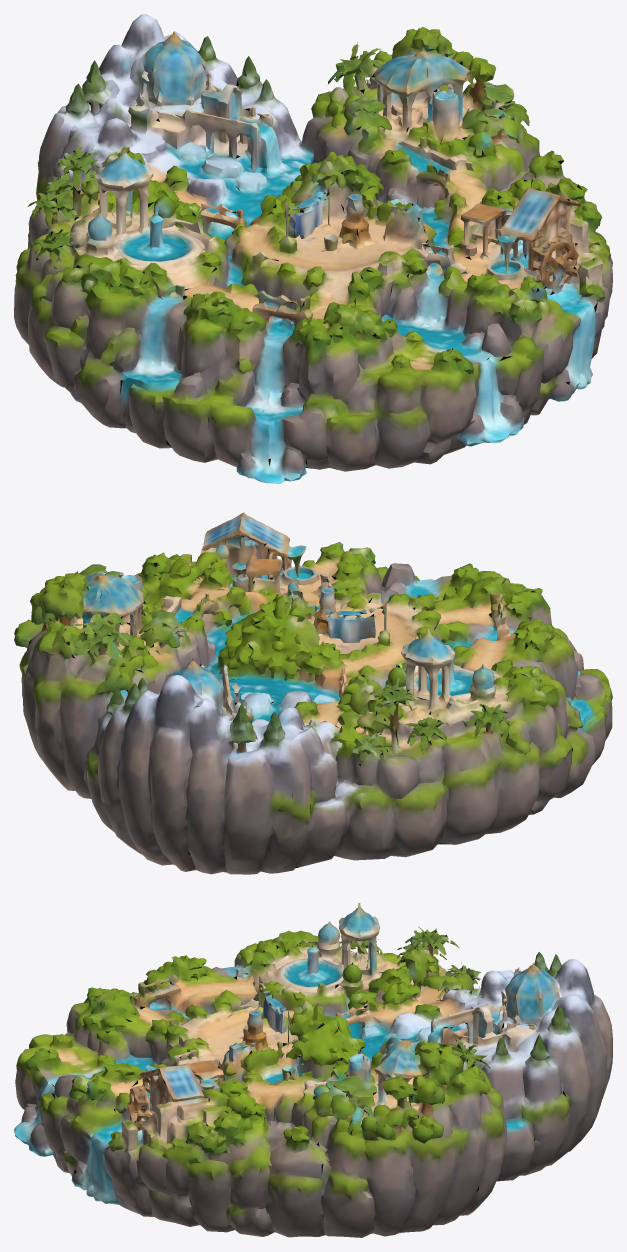
The model's file is island-diorama.glb.
The picture shows the model from 3 angles, top to bottom: view 1: azimuth 30°, elevation 25°; view 2: azimuth 150°, elevation 25°; view 3: azimuth 270°, elevation 25°; orthographic projection. The views are drawn at different scales.
Visible parts, largest first — view 1: web; view 2: web; view 3: web.
Boxes of the visible parts, bbox=[...] form: web: bbox=[14, 14, 612, 483]; web: bbox=[14, 512, 612, 874]; web: bbox=[14, 903, 612, 1237].
Size of the model in its own units: 0.3501 by 0.133 by 0.3992.
Materials: 1 (1 with a texture image).
